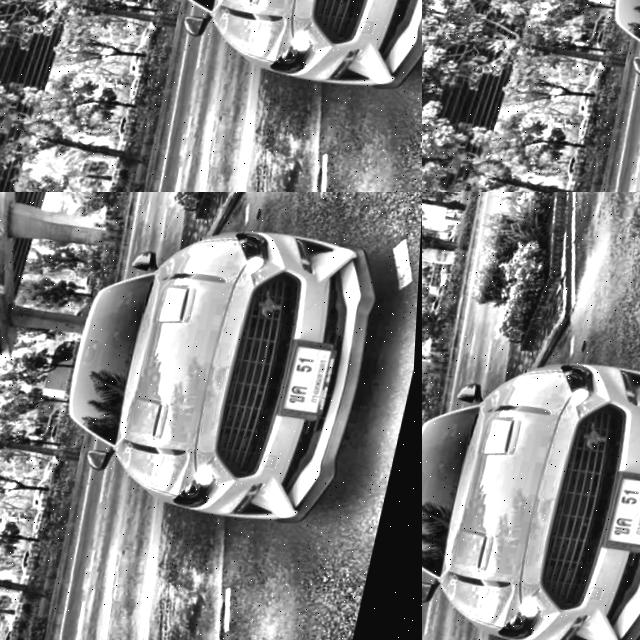license-plate: (0, 0, 227, 192), (604, 474, 640, 558)
